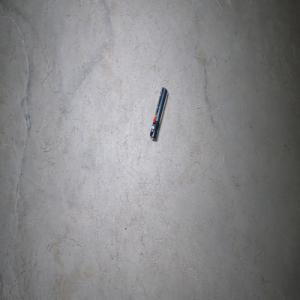Battery: (149, 86, 168, 141)
